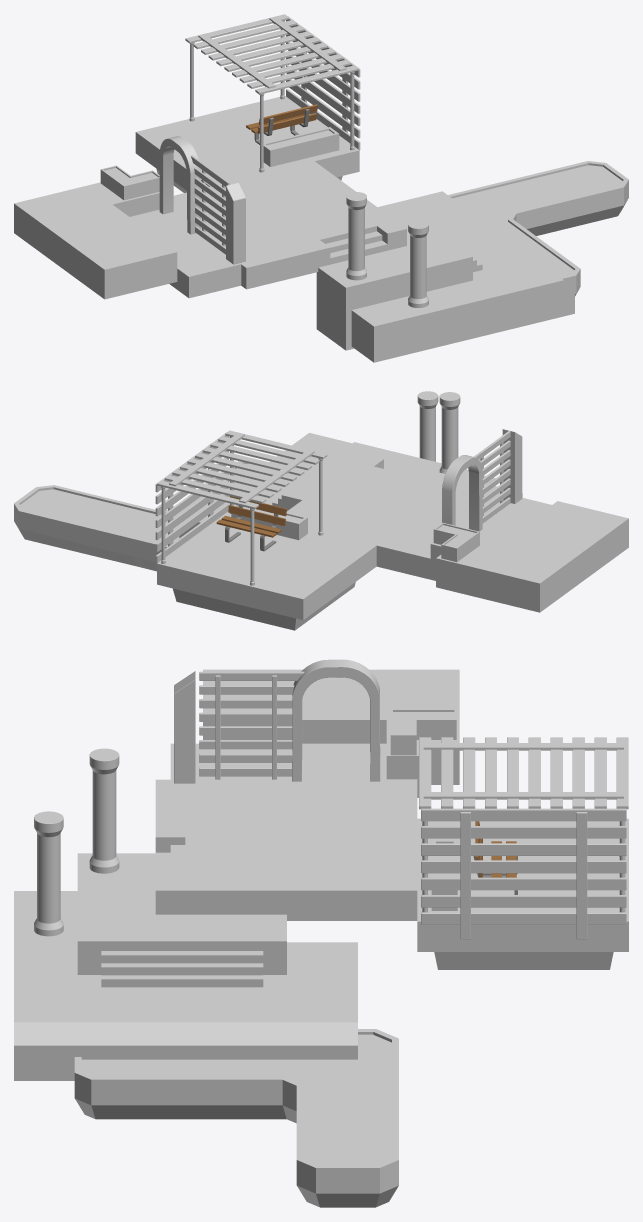
Rendered from Islas_v3.fbx.
The picture shows the model from 3 angles, top to bottom: view 1: azimuth 30°, elevation 25°; view 2: azimuth 150°, elevation 25°; view 3: azimuth 270°, elevation 25°; orthographic projection. The views are drawn at different scales.
Visible parts, largest first — view 1: Cube.079, Cube.094, Cube.078, Cube.095, Cube.093, Cube.082, Cube.084, Cylinder.015, Cube.090, Cube.083, Cylinder.016, Cylinder.017 (+5 smaller); view 2: Cube.079, Cube.078, Cube.095, Cube.082, Cube.084, Cube.093, Cylinder.015, Cube.090, Cube.094, Cylinder.016, Cube.081, Cube.085 (+7 smaller); view 3: Cube.079, Cube.094, Cube.095, Cube.084, Cube.093, Cube.078, Cube.082, Cube.090, Cube.096, Cylinder.015, Cylinder.016, Cylinder.017 (+5 smaller).
Boxes of the visible parts, x1=… form: Cube.079: x1=130, y1=96, x2=406, y2=298; Cube.094: x1=351, y1=191, x2=574, y2=362; Cube.078: x1=14, y1=182, x2=177, y2=299; Cube.095: x1=448, y1=161, x2=628, y2=295; Cube.093: x1=316, y1=202, x2=472, y2=350; Cube.082: x1=185, y1=14, x2=358, y2=94; Cube.084: x1=286, y1=16, x2=360, y2=150; Cylinder.015: x1=159, y1=136, x2=201, y2=234; Cube.090: x1=191, y1=155, x2=229, y2=254; Cube.083: x1=263, y1=127, x2=339, y2=166; Cylinder.016: x1=346, y1=192, x2=366, y2=280; Cylinder.017: x1=408, y1=220, x2=428, y2=307; Cube.079: x1=157, y1=454, x2=551, y2=630; Cube.078: x1=430, y1=501, x2=628, y2=612; Cube.095: x1=14, y1=461, x2=262, y2=571; Cube.082: x1=157, y1=430, x2=327, y2=509; Cube.084: x1=155, y1=432, x2=228, y2=563; Cube.093: x1=281, y1=442, x2=468, y2=510; Cylinder.015: x1=442, y1=455, x2=482, y2=531; Cube.090: x1=473, y1=431, x2=510, y2=523; Cube.094: x1=179, y1=433, x2=495, y2=538; Cylinder.016: x1=439, y1=392, x2=460, y2=473; Cube.081: x1=433, y1=522, x2=479, y2=562; Cube.085: x1=169, y1=432, x2=314, y2=503; Cube.079: x1=155, y1=743, x2=628, y2=969; Cube.094: x1=14, y1=891, x2=357, y2=1080; Cube.095: x1=74, y1=1029, x2=398, y2=1207; Cube.084: x1=421, y1=808, x2=626, y2=924; Cube.093: x1=77, y1=853, x2=286, y2=974; Cube.078: x1=203, y1=669, x2=459, y2=797; Cube.082: x1=419, y1=737, x2=628, y2=809; Cube.090: x1=199, y1=671, x2=304, y2=776; Cube.096: x1=101, y1=951, x2=263, y2=987; Cylinder.015: x1=292, y1=659, x2=380, y2=781; Cylinder.016: x1=89, y1=748, x2=119, y2=873; Cylinder.017: x1=34, y1=811, x2=63, y2=936.
Bounding box in the file's own units: 3975 × 1171 × 2650.
